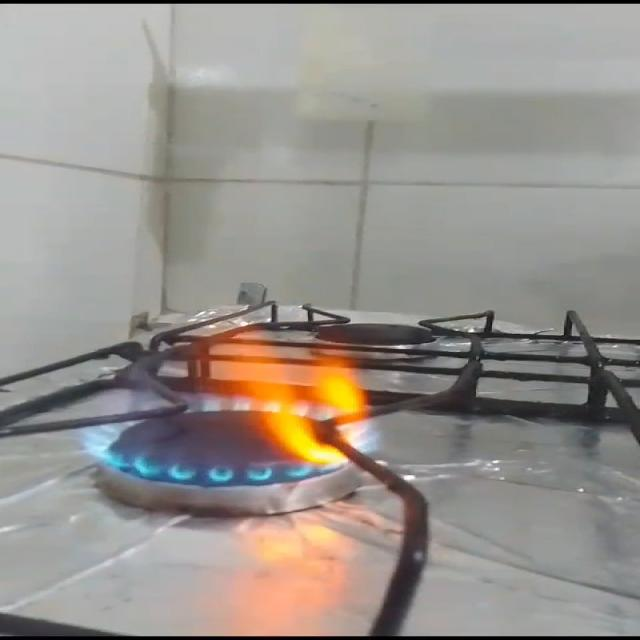fogo-ypXI: (72, 299, 383, 488)
